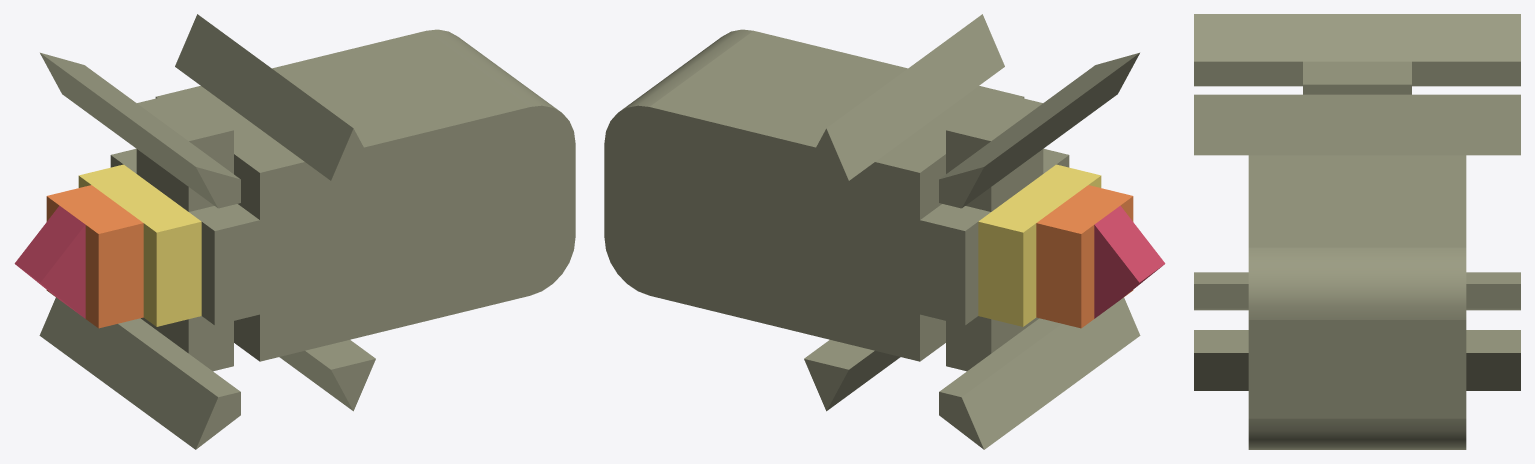
The model's file is bullet.glb.
3 views of the same model, side by side, from view 1: azimuth 30°, elevation 25°; view 2: azimuth 150°, elevation 25°; view 3: azimuth 270°, elevation 25° (orthographic). The views are drawn at different scales.
Parts seen in each view (by area): view 1: generated(Clone); view 2: generated(Clone); view 3: generated(Clone).
Boxes of the visible parts, <box> form: generated(Clone): <box>14,14,575,449</box>; generated(Clone): <box>604,14,1165,449</box>; generated(Clone): <box>1194,14,1520,449</box>.
Size of the model in its own units: 11 by 6 by 6.
1 material, 1 textured.
